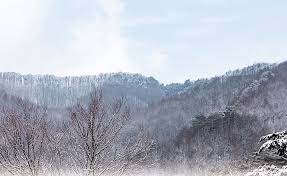mountain: (3, 78, 286, 176)
sky: (1, 1, 287, 80)
tree: (7, 102, 56, 174), (71, 96, 120, 168)
